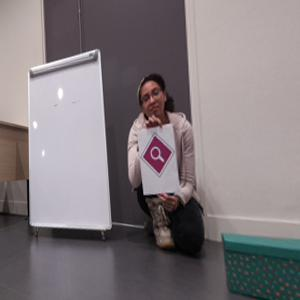search: (141, 133, 175, 176)
